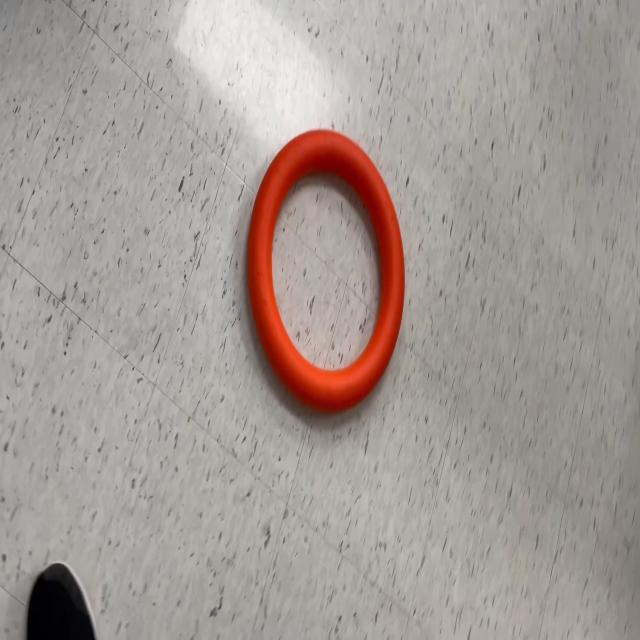note: (245, 126, 406, 414)
